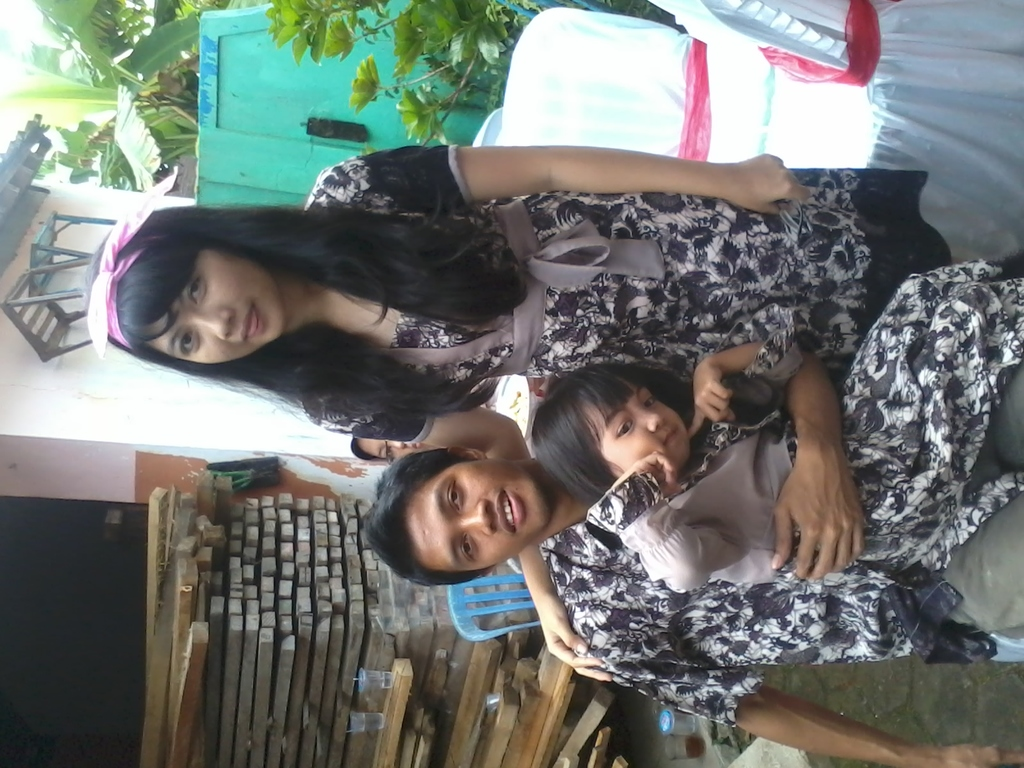Human_hand: (776, 344, 870, 595), (534, 592, 614, 686), (730, 152, 810, 216), (686, 356, 737, 437), (944, 742, 1023, 767), (529, 376, 545, 398)
